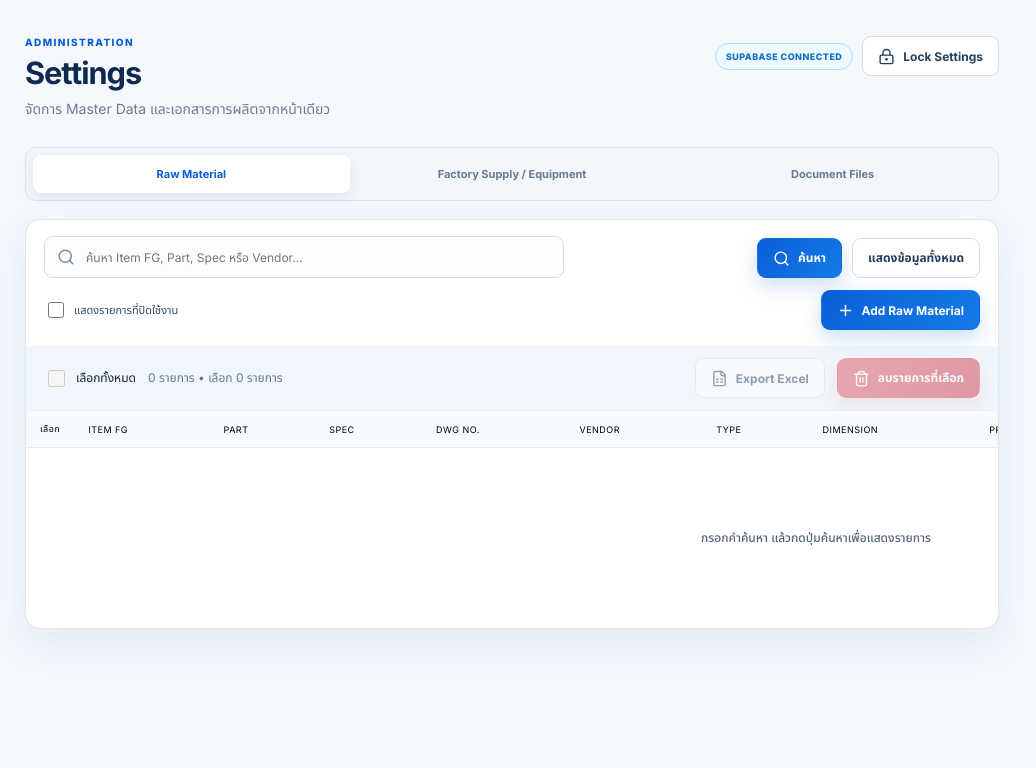
Test: Settings document search › searches equipment by Code RM and displays the code before Part
Click the button "Factory Supply / Equipment": [512, 174] box [354,155,670,193]
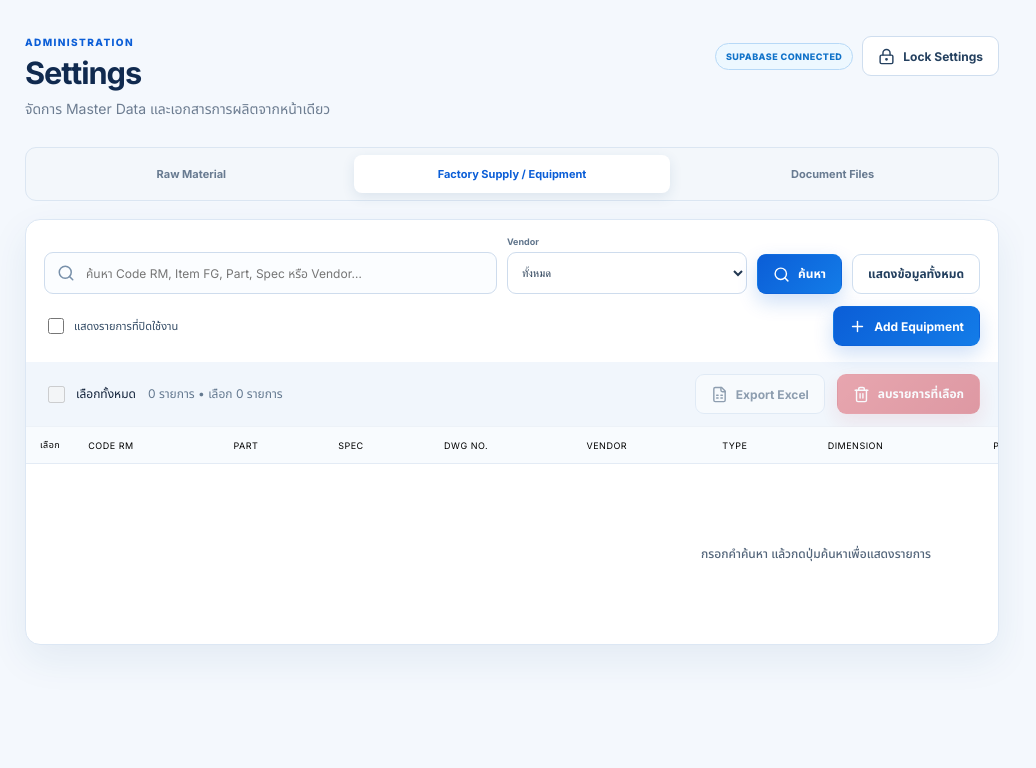
In the field with placeholder "ค้นหา Code RM, Item FG, Part, Spec หรือ Vendor…": [284, 273] box [84,253,484,293], type " rm-004 "
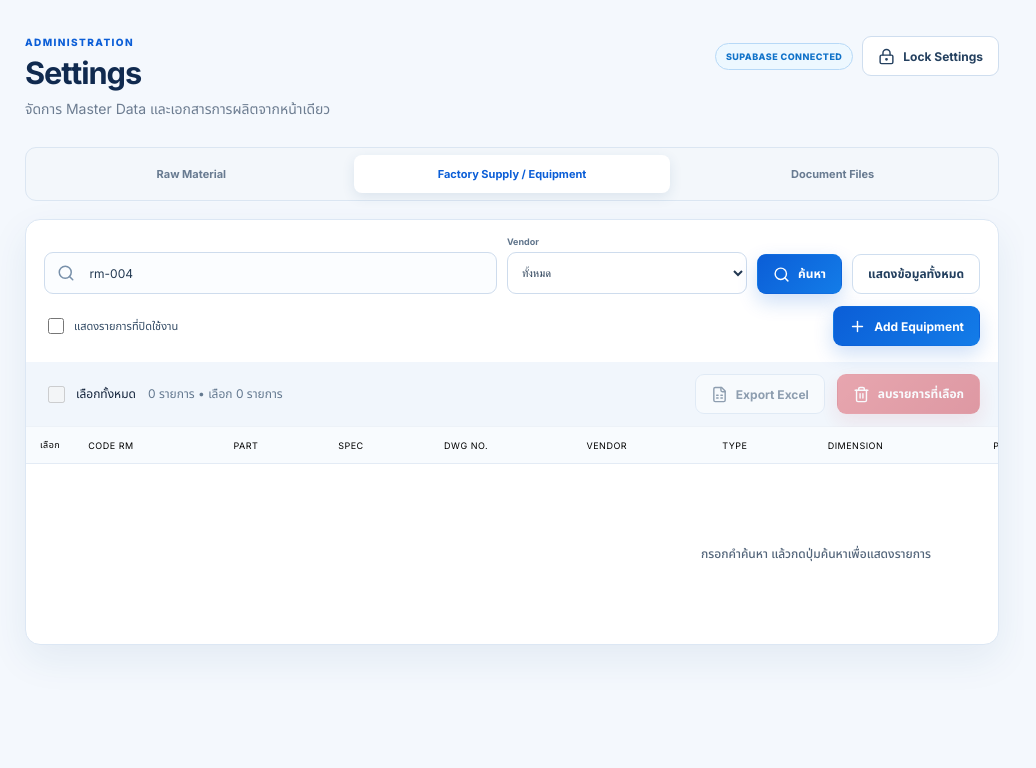
Click the button "ค้นหา": [800, 274] box [757,254,842,294]
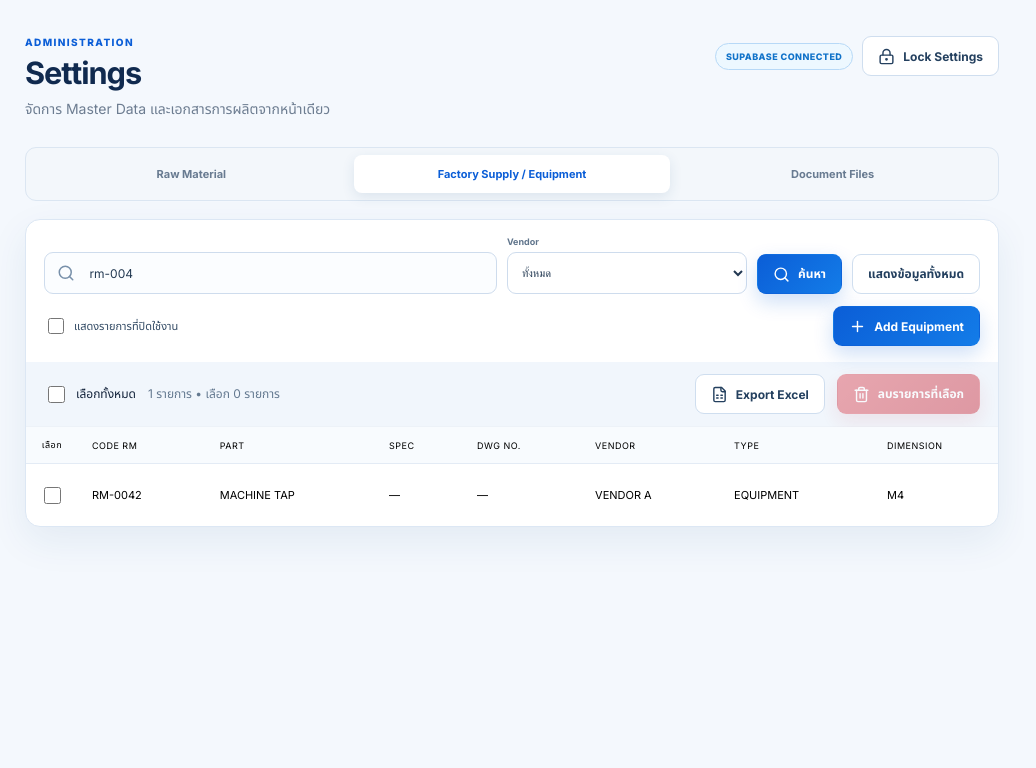
Expected: the cell "MACHINE TAP" is shown, [206,464,375,526]
